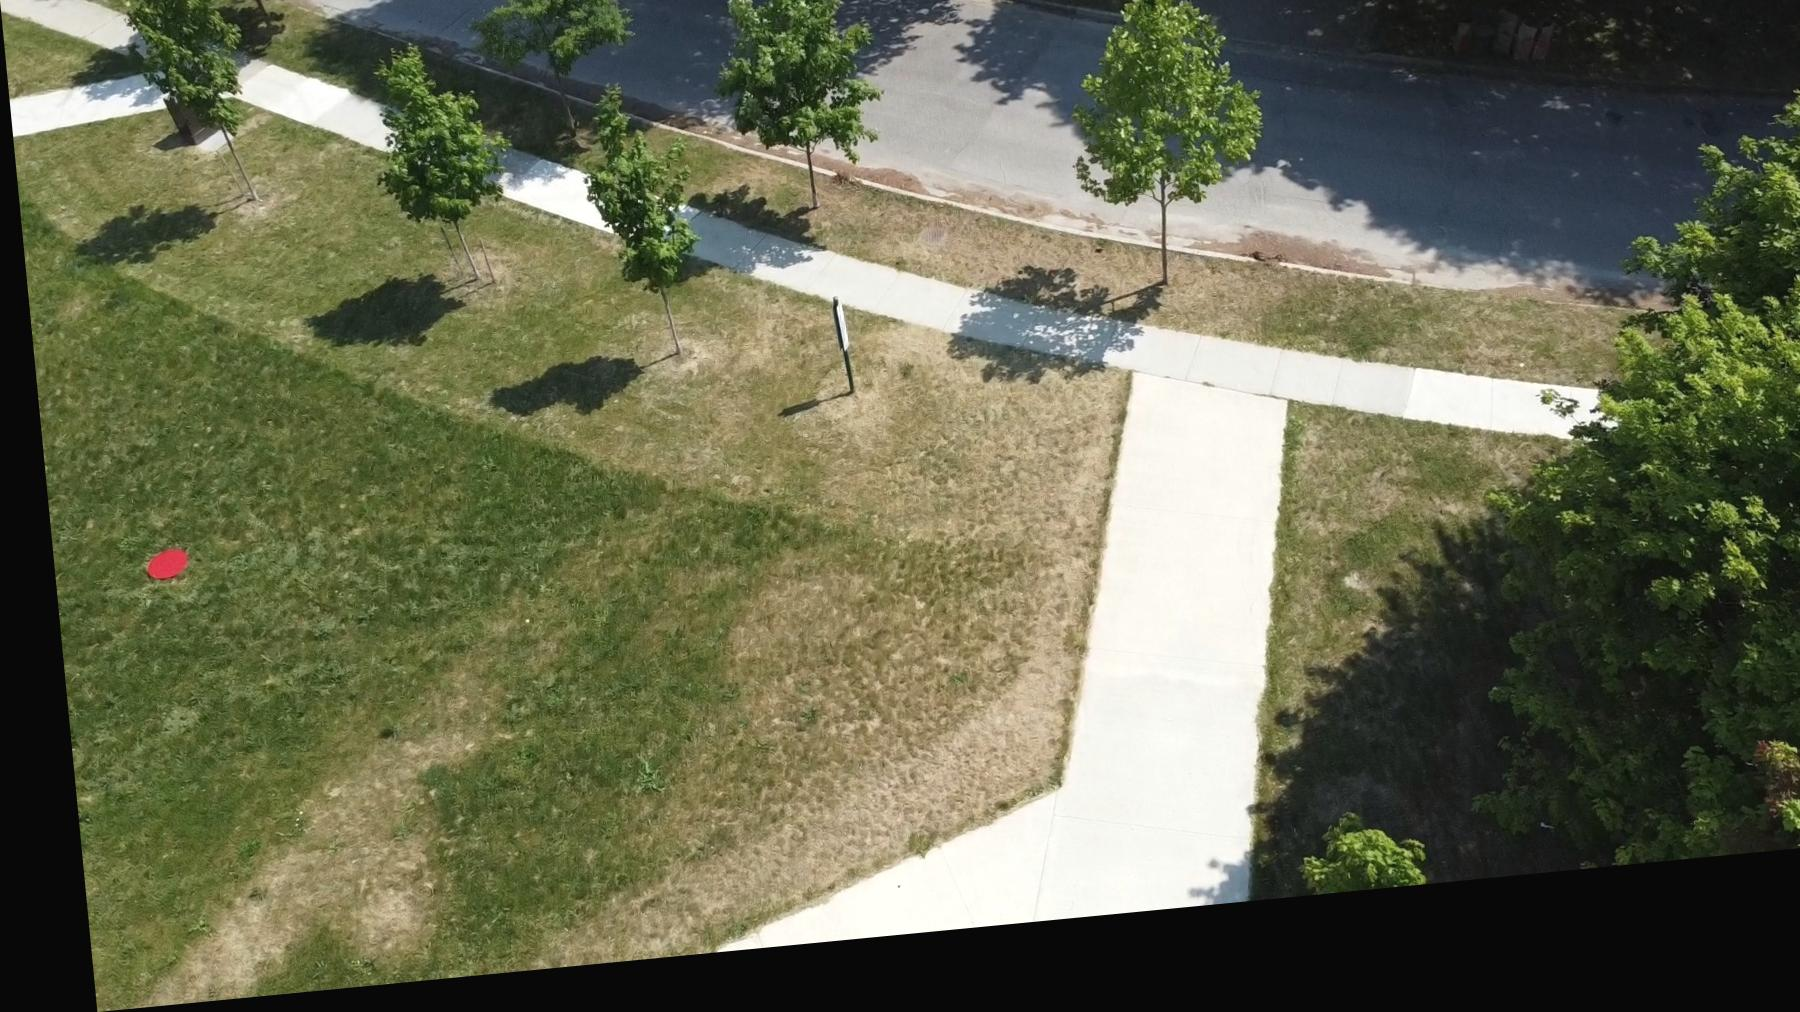Red: (134, 549, 179, 583)
